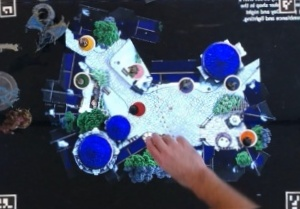blue: (222, 72, 243, 91)
green: (70, 67, 90, 89)
orange: (238, 128, 259, 147)
pink: (124, 62, 146, 80)
red: (126, 100, 149, 119)
violet: (178, 75, 197, 95)
yellow: (77, 32, 100, 53)
